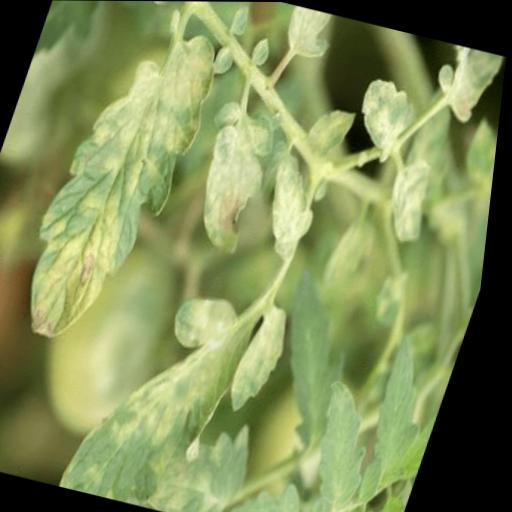Yellow Leaf Curl Virus: (8, 10, 238, 358), (61, 266, 310, 512), (172, 89, 294, 260), (251, 149, 335, 263), (344, 68, 428, 165), (379, 156, 453, 248)
